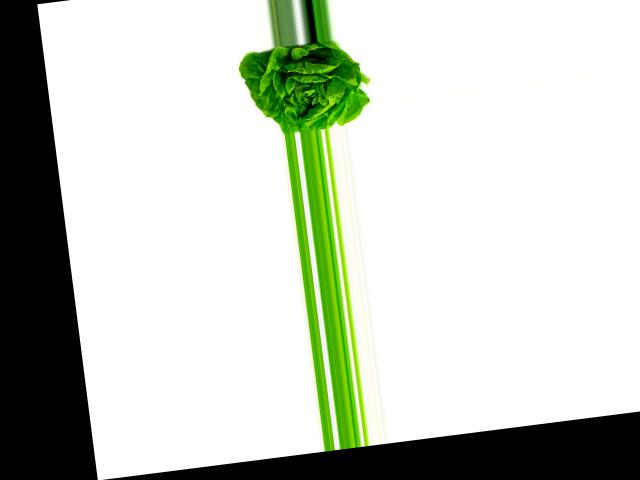lettuce: (234, 35, 369, 138)
